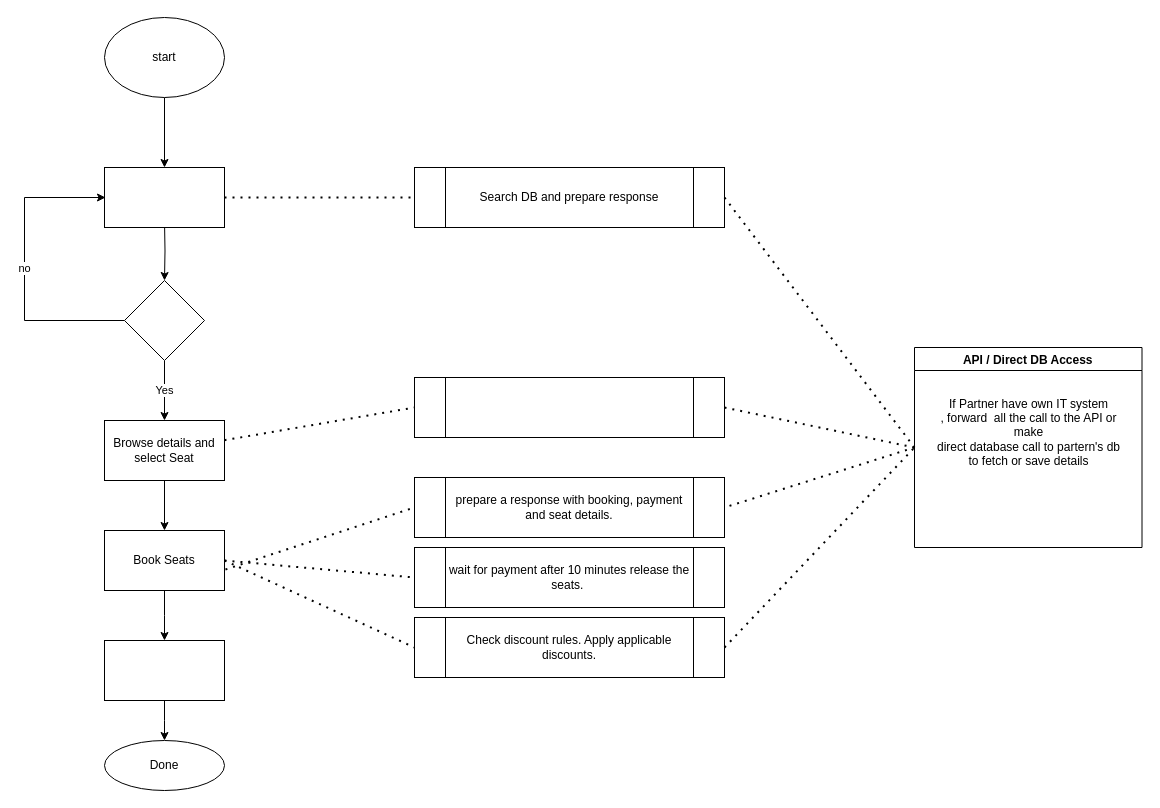
Image size: 1160x808. Some labels were removed from this diagram. The shapes that lost their labels are listed below. From the top down, each one's box as (x1, y1, x2, y2) in pixels, then its label:
(104, 166, 224, 228): Search show by name,location
(124, 280, 204, 360): FOUND
(414, 376, 724, 438): Get price, sections, available seats details
(104, 640, 224, 700): confirm booking Make Payment
